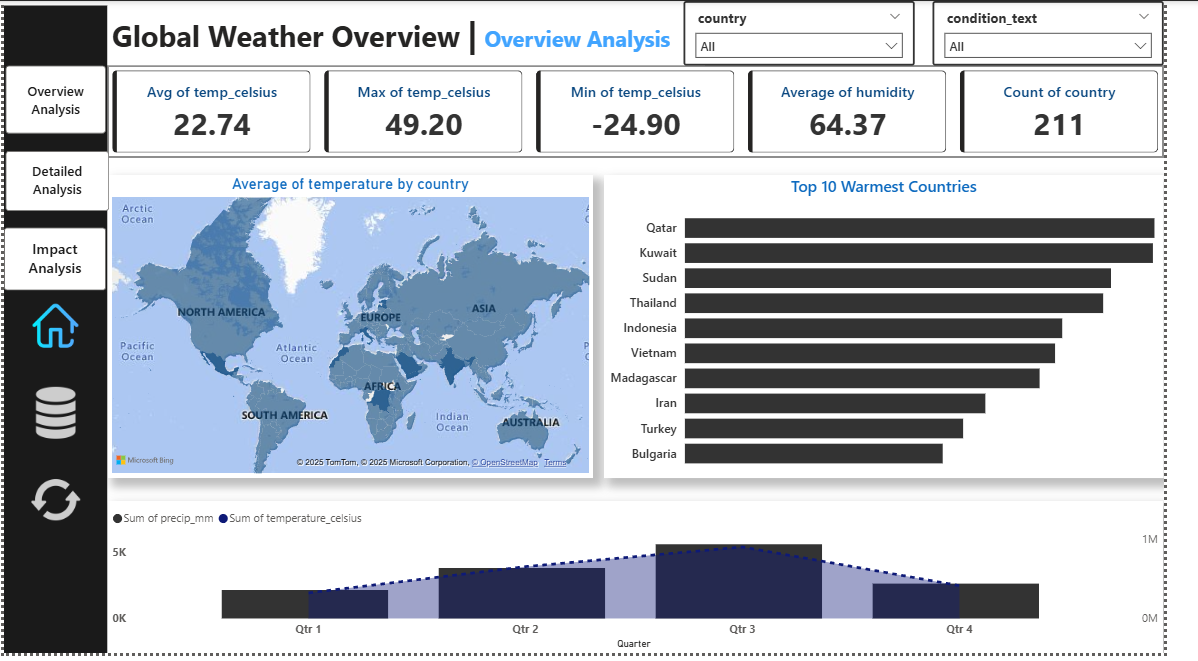

This screenshot's page, from the dashboard's own definition file:
{"tool":"powerbi","page":{"name":"Overview","canvas":[1280,720],"ordinal":0},"visuals":[{"type":"cardVisual","fields":{"Data":["Avg(Cleaned_Climatescoop.temperature_celsius)","Max(Cleaned_Climatescoop.temperature_celsius)1","Min(Cleaned_Climatescoop.temperature_celsius)2","Avg(Cleaned_Climatescoop.humidity)","Count(Cleaned_Climatescoop.country)"]},"box":[114.3,71.2,1166.2,101],"z":0},{"type":"filledMap","title":"Average of temperature by country","fields":{"Category":["Cleaned_Climatescoop.country"]},"box":[114.3,192.2,536.7,334.6],"z":1000},{"type":"barChart","title":"Top 10 Warmest Countries","fields":{"Category":["Cleaned_Climatescoop.country"],"Y":["Avg(Cleaned_Climatescoop.temperature_celsius)"]},"box":[662.6,192.2,617.9,334.6],"z":2000},{"type":"lineStackedColumnComboChart","fields":{"Category":["Cleaned_Climatescoop.last_updated.Variation.Date Hierarchy.Quarter","Cleaned_Climatescoop.last_updated.Variation.Date Hierarchy.Month","Cleaned_Climatescoop.last_updated.Variation.Date Hierarchy.Day"],"Y":["Sum(Cleaned_Climatescoop.precip_mm)"],"Y2":["Sum(Cleaned_Climatescoop.temperature_celsius)"]},"box":[114.3,551.6,1166.2,169],"z":3000},{"type":"textbox","box":[114.3,5,659.3,66.3],"z":4000},{"type":"slicer","fields":{"Values":["Cleaned_Climatescoop.country"]},"box":[750.4,0,255.1,71.2],"z":5000},{"type":"slicer","fields":{"Values":["Cleaned_Climatescoop.condition_text"]},"box":[1025.4,0,255.1,71.2],"z":6000},{"type":"textbox","box":[0,5,114.3,715.6],"z":7000},{"type":"actionButton","box":[1.7,71.2,110.9,75.3],"z":8000,"group":"g1"},{"type":"group","id":"g1","title":"Group 1","box":[1.3,71.2,114.3,160.3],"z":8000},{"type":"actionButton","box":[1.3,165.2,114.3,66.3],"z":9000,"group":"g1"},{"type":"image","box":[24.8,328,64.6,61.3],"z":9000},{"type":"image","box":[19.9,420.7,74.5,67.9],"z":10000},{"type":"image","box":[21.5,518.5,71.2,64.6],"z":11000},{"type":"actionButton","box":[0,250.1,112.6,69.6],"z":11001}]}

Visuals, with their boxes on the page's 1280x720 design canvas (x1, y1, x2, y2). These are canvas units, not pixel positions in the 1198x661 screenshot, which may show the page scaled, cropped or inside an application window:
cardVisual - Avg(Cleaned_Climatescoop.temperature_celsius) x Max(Cleaned_Climatescoop.temperature_celsius)1: [x1=114, y1=71, x2=1280, y2=172]
"Average of temperature by country" filledMap: [x1=114, y1=192, x2=651, y2=527]
"Top 10 Warmest Countries" barChart: [x1=663, y1=192, x2=1280, y2=527]
lineStackedColumnComboChart - Cleaned_Climatescoop.last_updated.Variation.Date Hierarchy.Quarter x Cleaned_Climatescoop.last_updated.Variation.Date Hierarchy.Month: [x1=114, y1=552, x2=1280, y2=721]
textbox: [x1=114, y1=5, x2=774, y2=71]
slicer - Cleaned_Climatescoop.country: [x1=750, y1=0, x2=1006, y2=71]
slicer - Cleaned_Climatescoop.condition_text: [x1=1025, y1=0, x2=1280, y2=71]
textbox: [x1=0, y1=5, x2=114, y2=721]
actionButton: [x1=2, y1=71, x2=113, y2=146]
"Group 1" group: [x1=1, y1=71, x2=116, y2=232]
actionButton: [x1=1, y1=165, x2=116, y2=232]
image: [x1=25, y1=328, x2=89, y2=389]
image: [x1=20, y1=421, x2=94, y2=489]
image: [x1=22, y1=518, x2=93, y2=583]
actionButton: [x1=0, y1=250, x2=113, y2=320]
